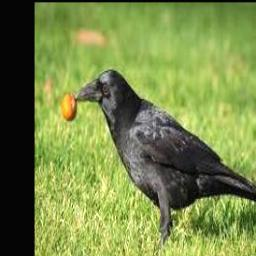Crow: (74, 67, 256, 244)
